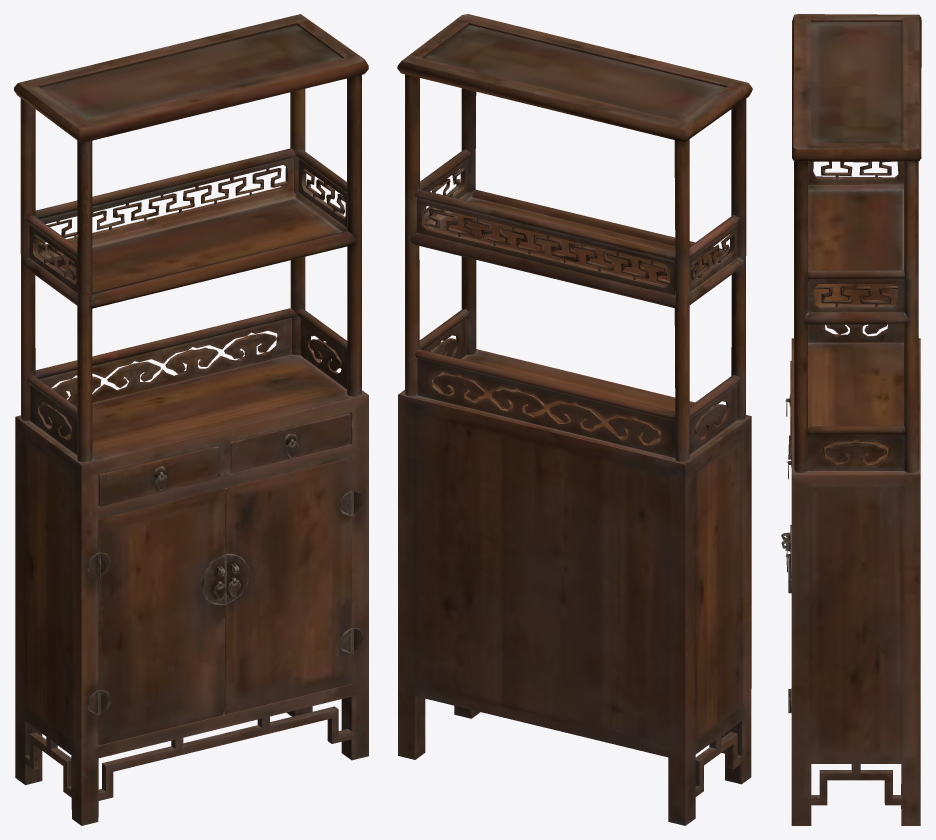
File: chinese_cabinet.glb
3 renders of one model, left to right at view 1: azimuth 30°, elevation 25°; view 2: azimuth 150°, elevation 25°; view 3: azimuth 270°, elevation 25°, orthographic. The views are drawn at different scales.
Visible parts, largest first — view 1: chinese_cabinet; view 2: chinese_cabinet; view 3: chinese_cabinet.
Part boxes in pixels (x1,y1,x2,y2): chinese_cabinet: (14,14,368,825); chinese_cabinet: (397,14,752,825); chinese_cabinet: (781,14,921,825).
Size of the model in its own units: 1.26 by 2.87 by 0.5394.
Materials: 1 (1 with a texture image).
